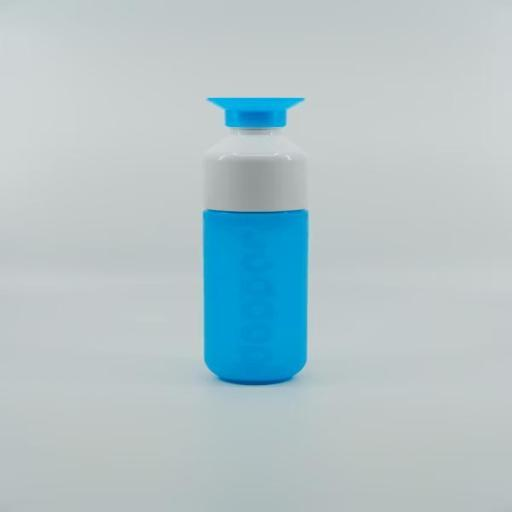bottle: (188, 81, 320, 399)
